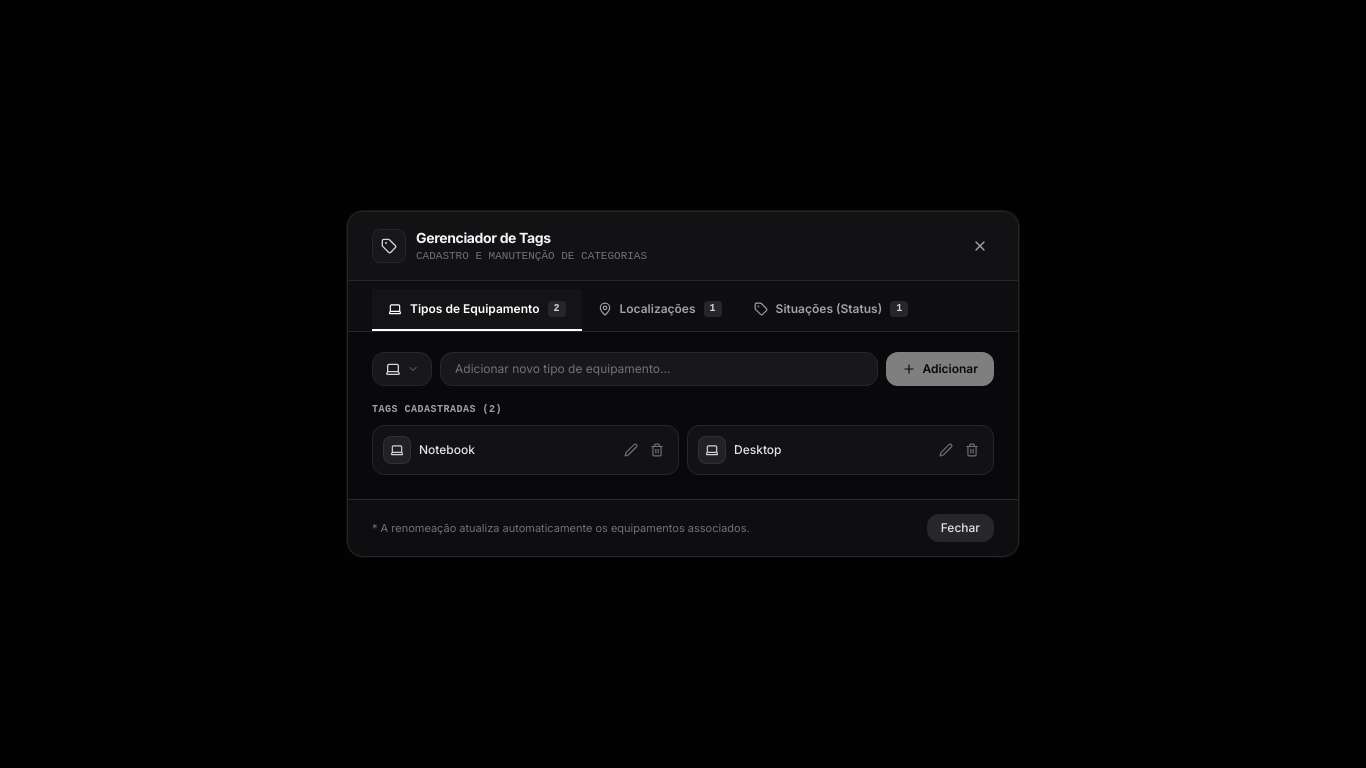
Test case: Componente ManageTagsModal › Renderiza categorias e lista tags da categoria ativa
Check: the heading "Gerenciador de Tags" is shown, box [416,229,551,246]
Check: the text "Notebook" is shown, box [419,442,475,458]
Note: Troca de aba para Localizações
Click the button with test id "tab-localizacao".
click(660, 310)  # box [582,289,738,331]
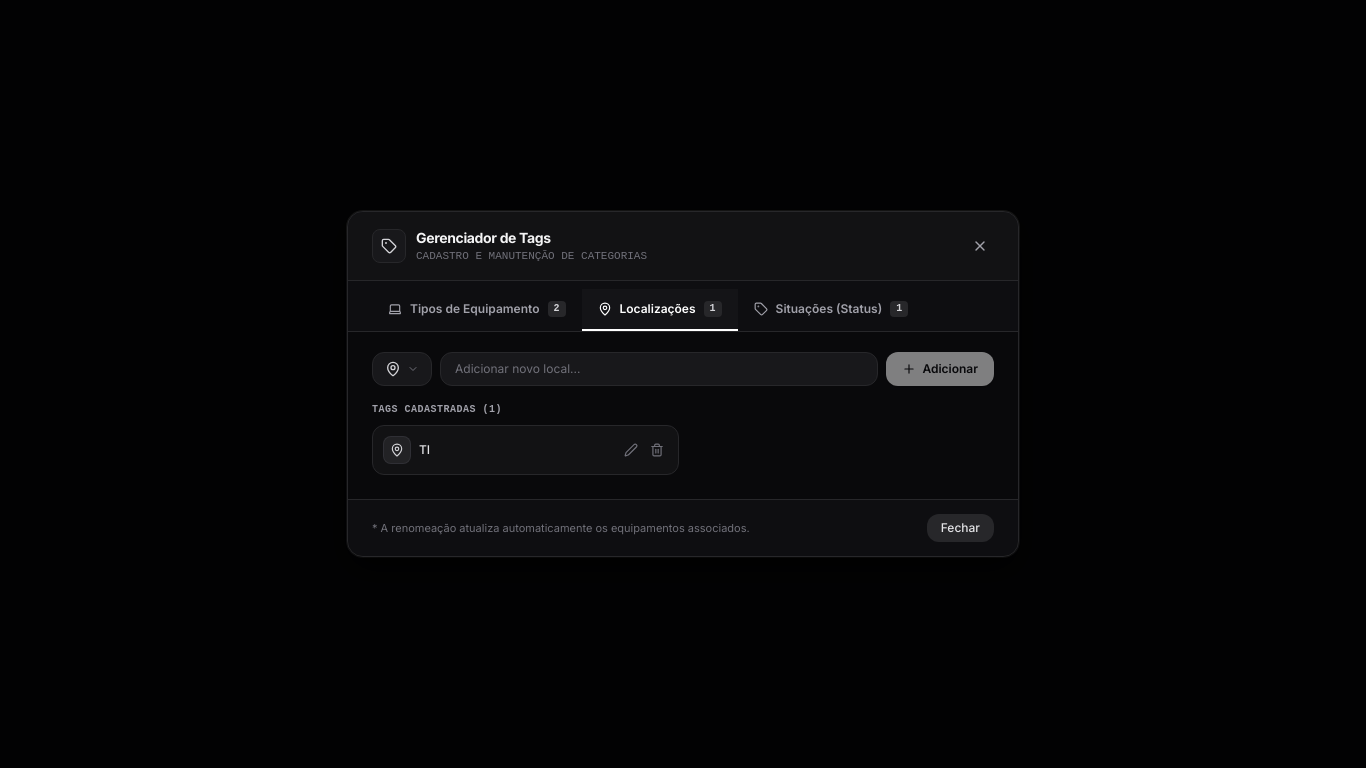
Check: the text "TI" is shown, box [419,442,430,458]
Check: the text "Notebook" is gone
